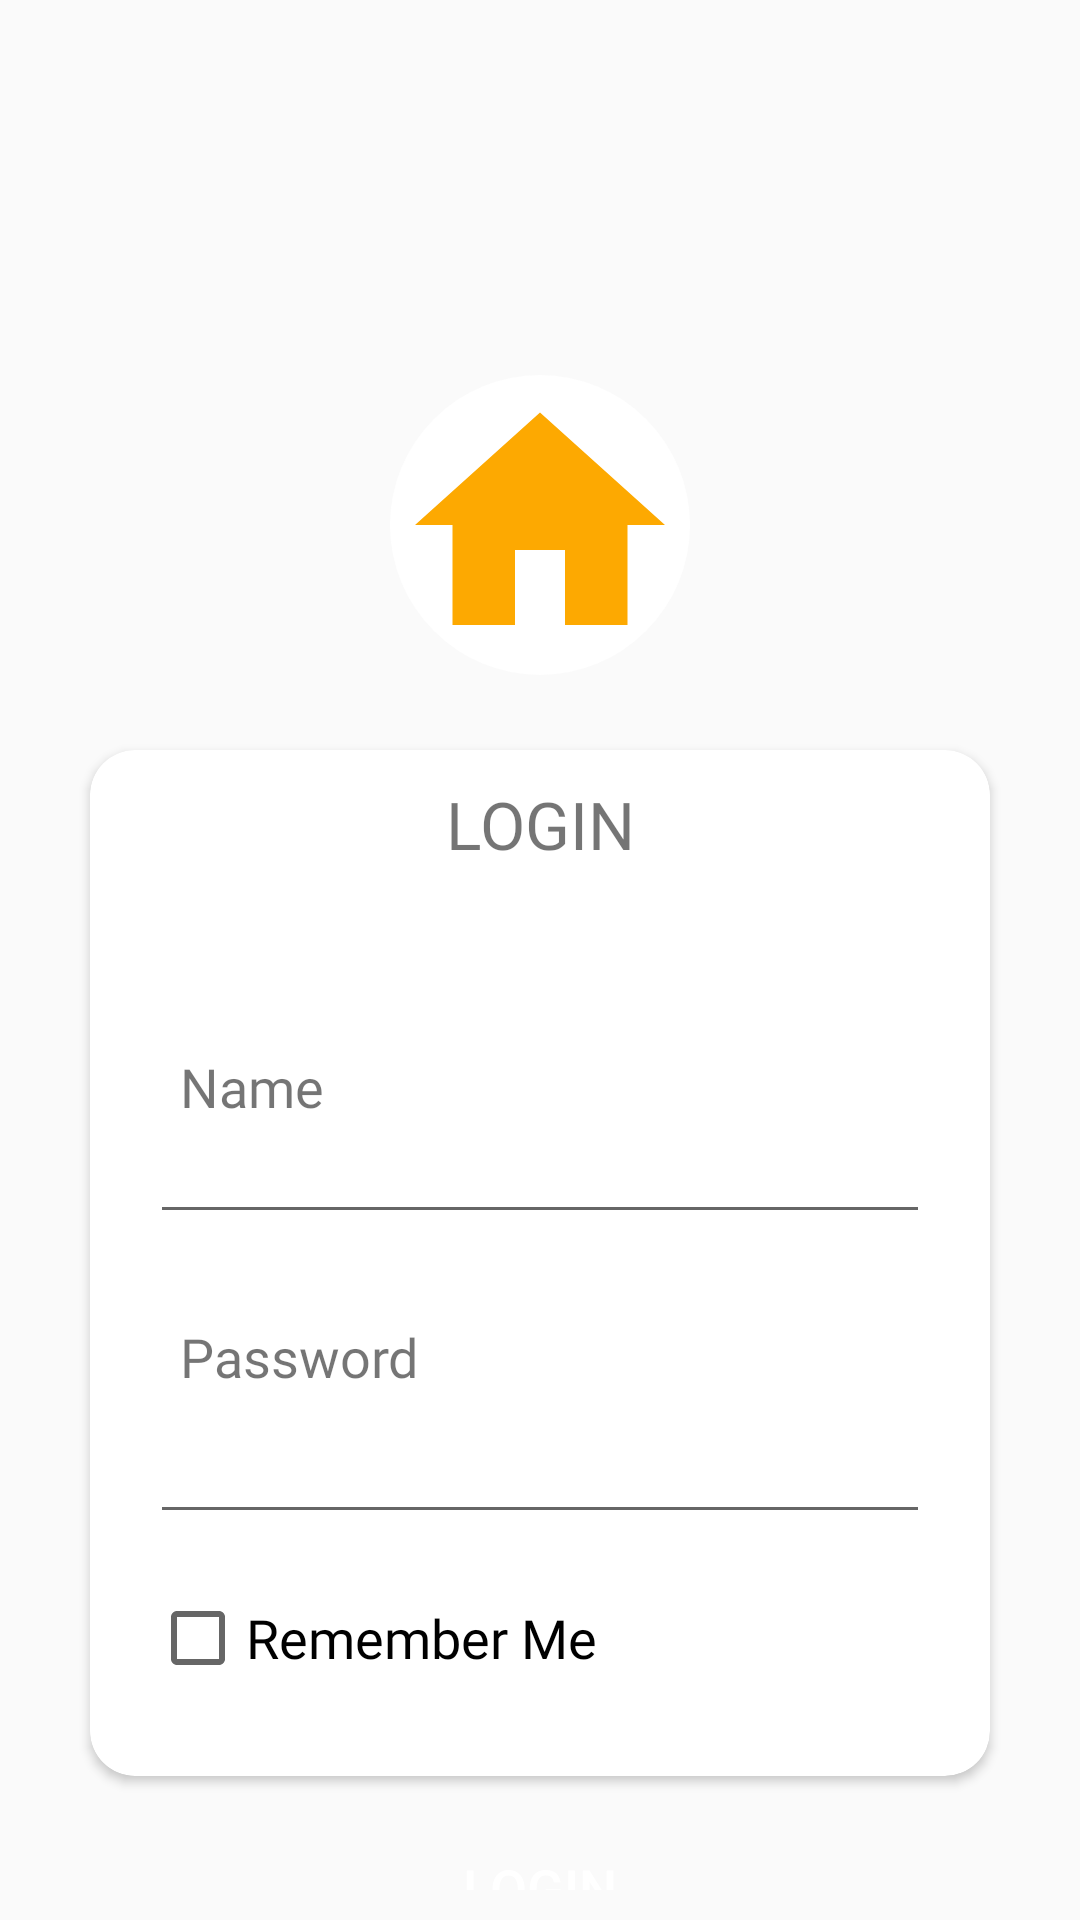

Icons on this 1080w x 1920h Android screen, each with its box as (x1, y1, x2, y2):
home: (415, 412, 665, 625)
